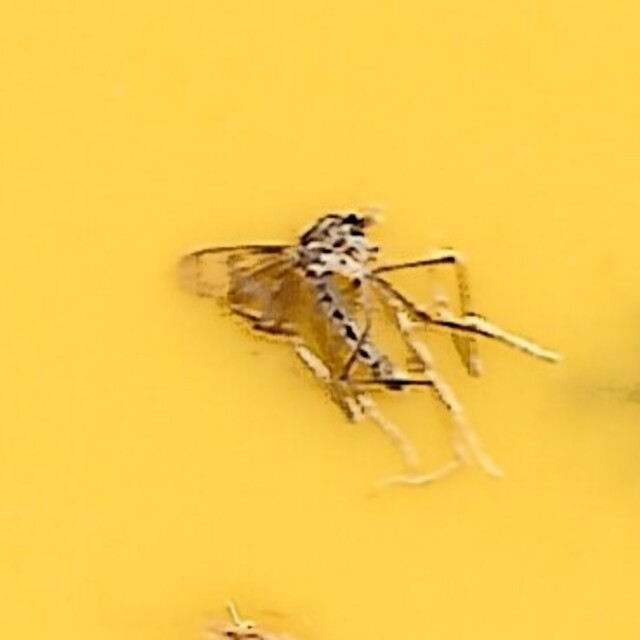Nematocera: (173, 196, 467, 444)
